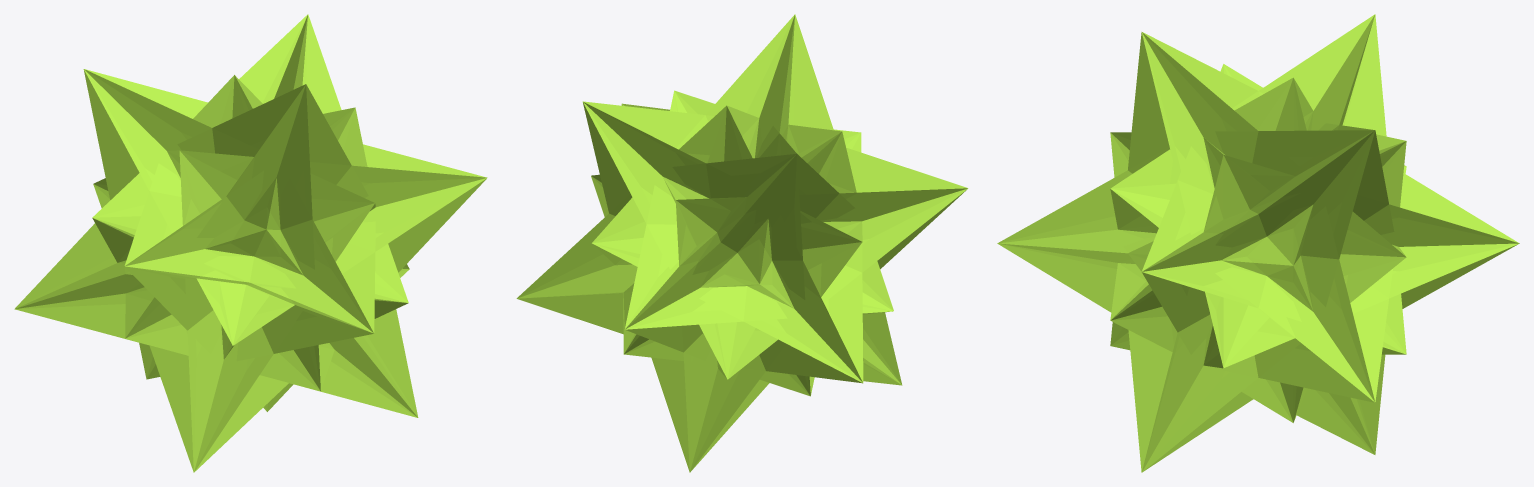
The model's file is 19_Dodekexcavated_Gissid.obj.
The picture shows the model from 3 angles, left to right: view 1: azimuth 30°, elevation 25°; view 2: azimuth 150°, elevation 25°; view 3: azimuth 270°, elevation 25°; orthographic projection. The views are drawn at different scales.
Bounding box in the file's own units: 1.28 × 1.34 × 1.5.
